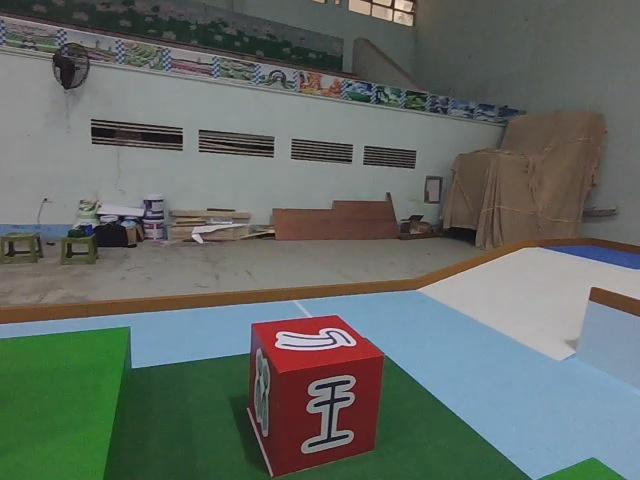R2 Fake: (244, 313, 386, 477)
